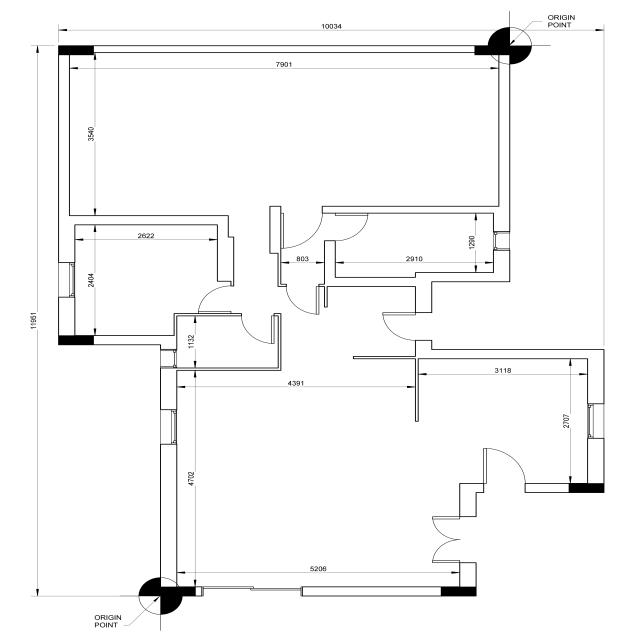Column: (440, 586, 478, 597), (58, 335, 94, 346), (570, 483, 606, 494), (160, 586, 196, 597), (58, 46, 94, 56), (474, 45, 510, 55)
Door: (483, 448, 526, 494), (280, 206, 322, 250), (381, 312, 434, 342), (322, 214, 370, 242), (240, 313, 276, 347), (195, 285, 235, 314), (286, 284, 320, 317)
Double-Door: (432, 516, 478, 564)
Sliding Door: (202, 586, 304, 598)
Window: (587, 403, 605, 440), (58, 262, 76, 298), (160, 410, 177, 446), (160, 349, 176, 369), (494, 231, 510, 250)
